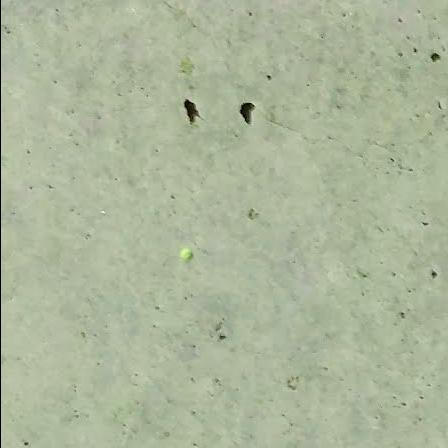spalling: (176, 95, 208, 133), (233, 99, 257, 126)
